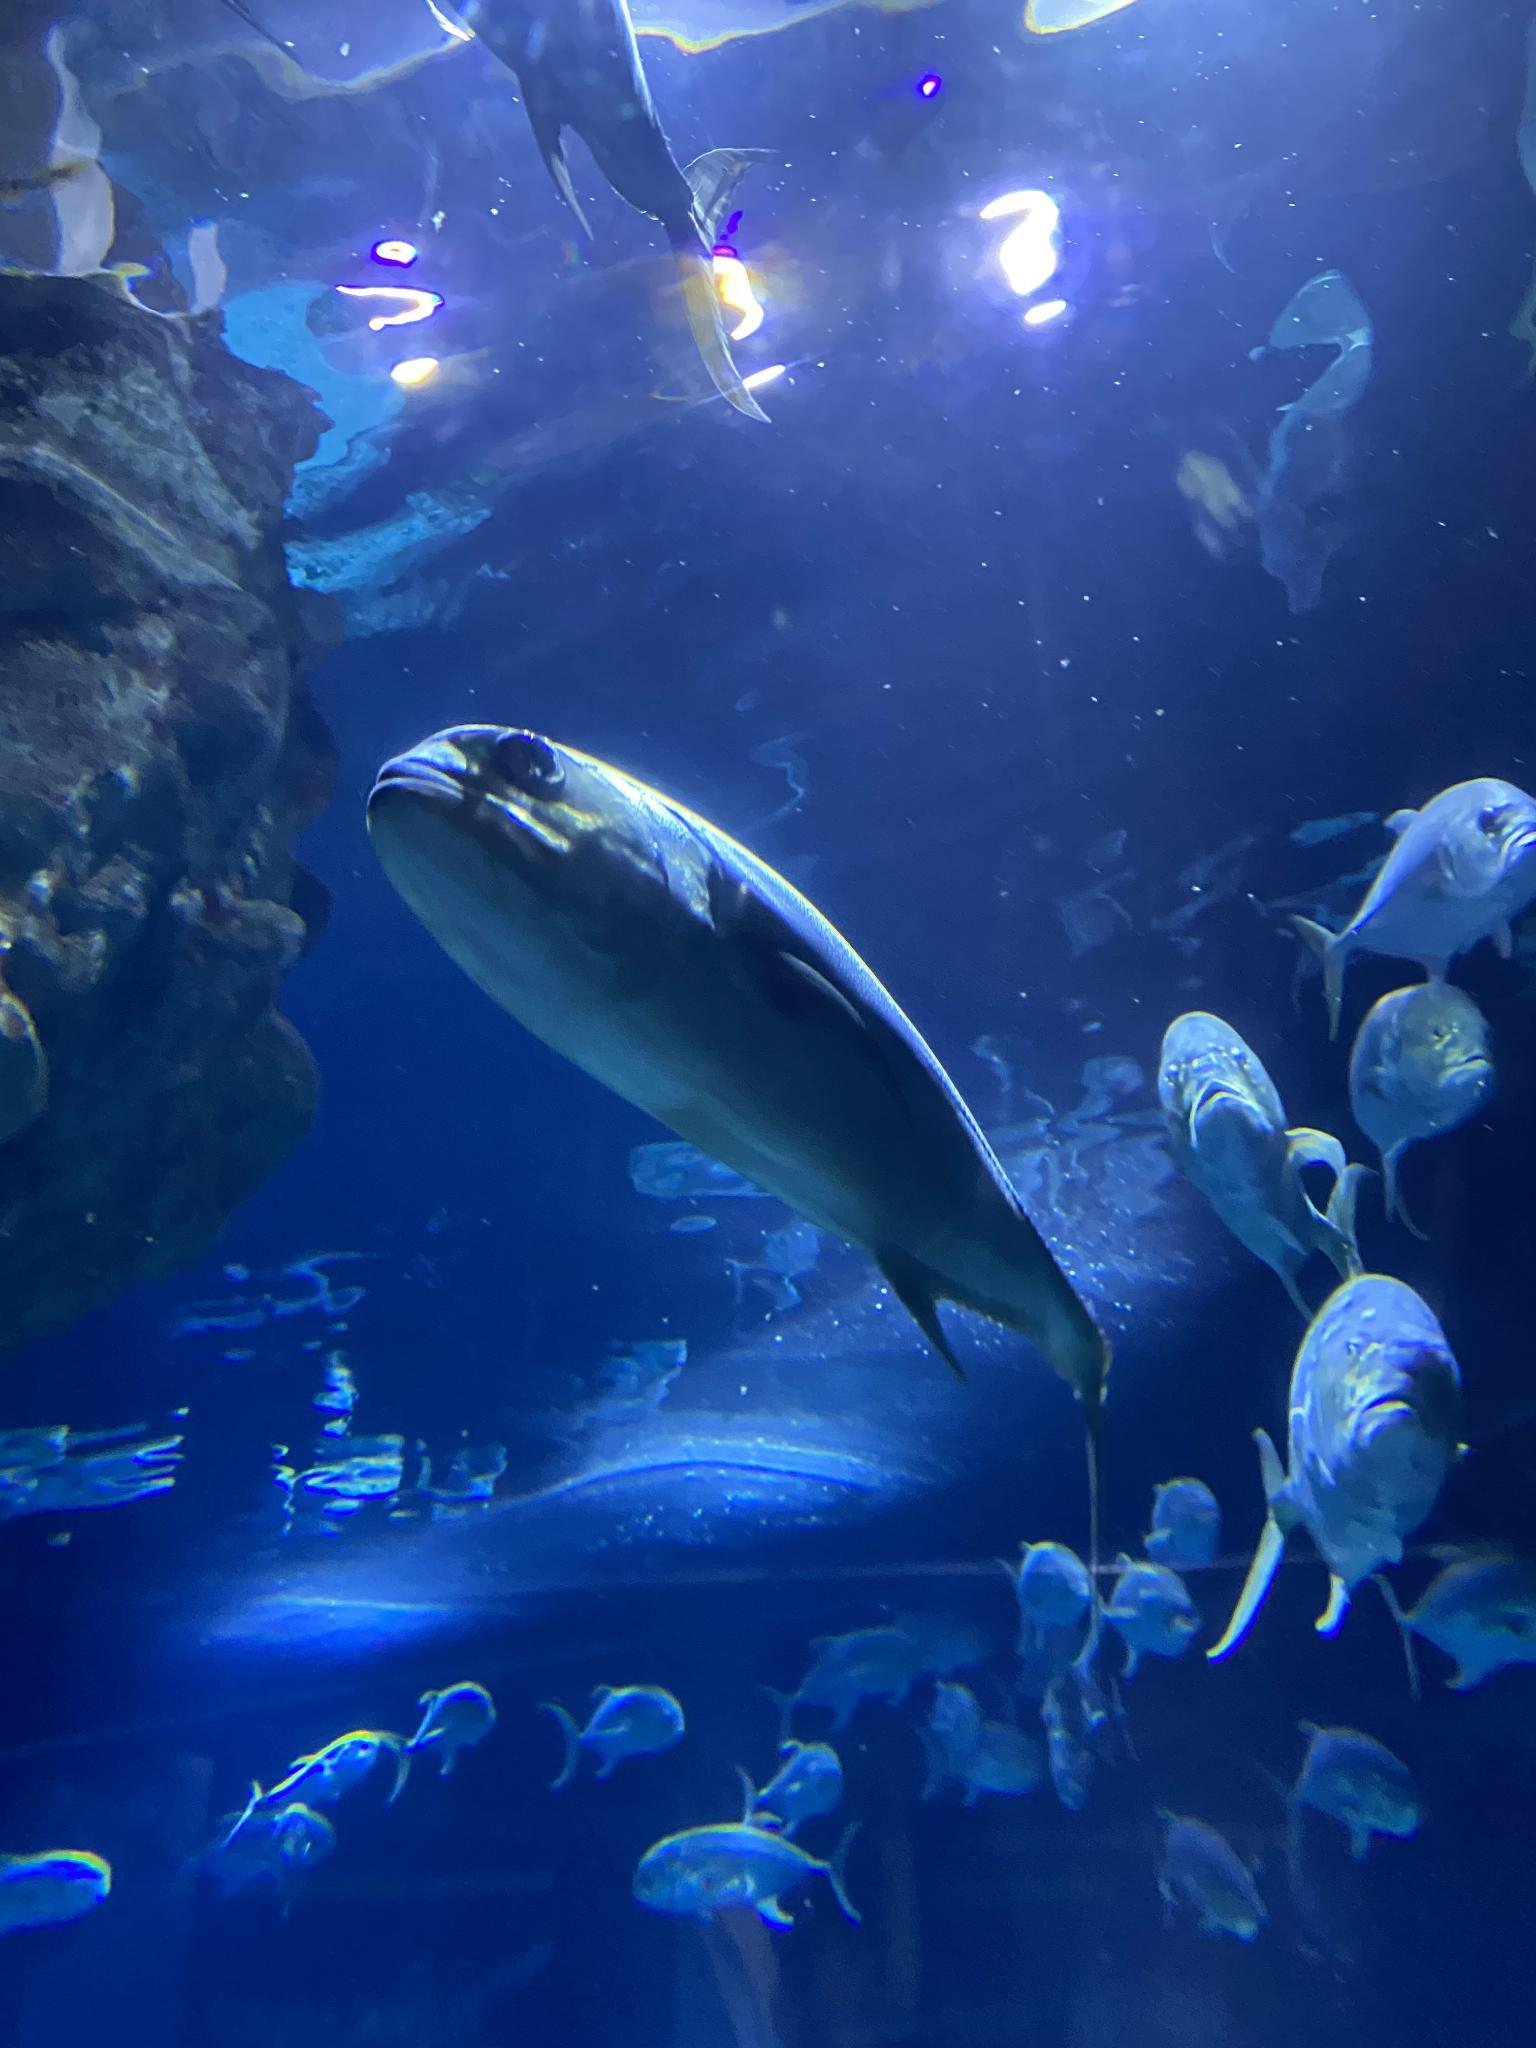fish: (363, 722, 1105, 1400), (445, 0, 766, 429), (1210, 1279, 1468, 1659), (1158, 1013, 1365, 1306), (1292, 780, 1536, 1009), (1350, 980, 1492, 1235), (1381, 1550, 1536, 1708), (632, 1824, 855, 1925), (1270, 1722, 1420, 1850), (153, 1811, 331, 1900), (1157, 1811, 1265, 1942), (545, 1684, 687, 1777), (773, 1634, 920, 1721), (378, 1684, 495, 1788), (1036, 1656, 1105, 1830), (1084, 1558, 1199, 1663), (920, 1717, 1041, 1809), (250, 1730, 381, 1806), (0, 1851, 110, 1938), (734, 1738, 844, 1819), (1004, 1542, 1081, 1646), (868, 1609, 984, 1672), (1142, 1480, 1220, 1564)
